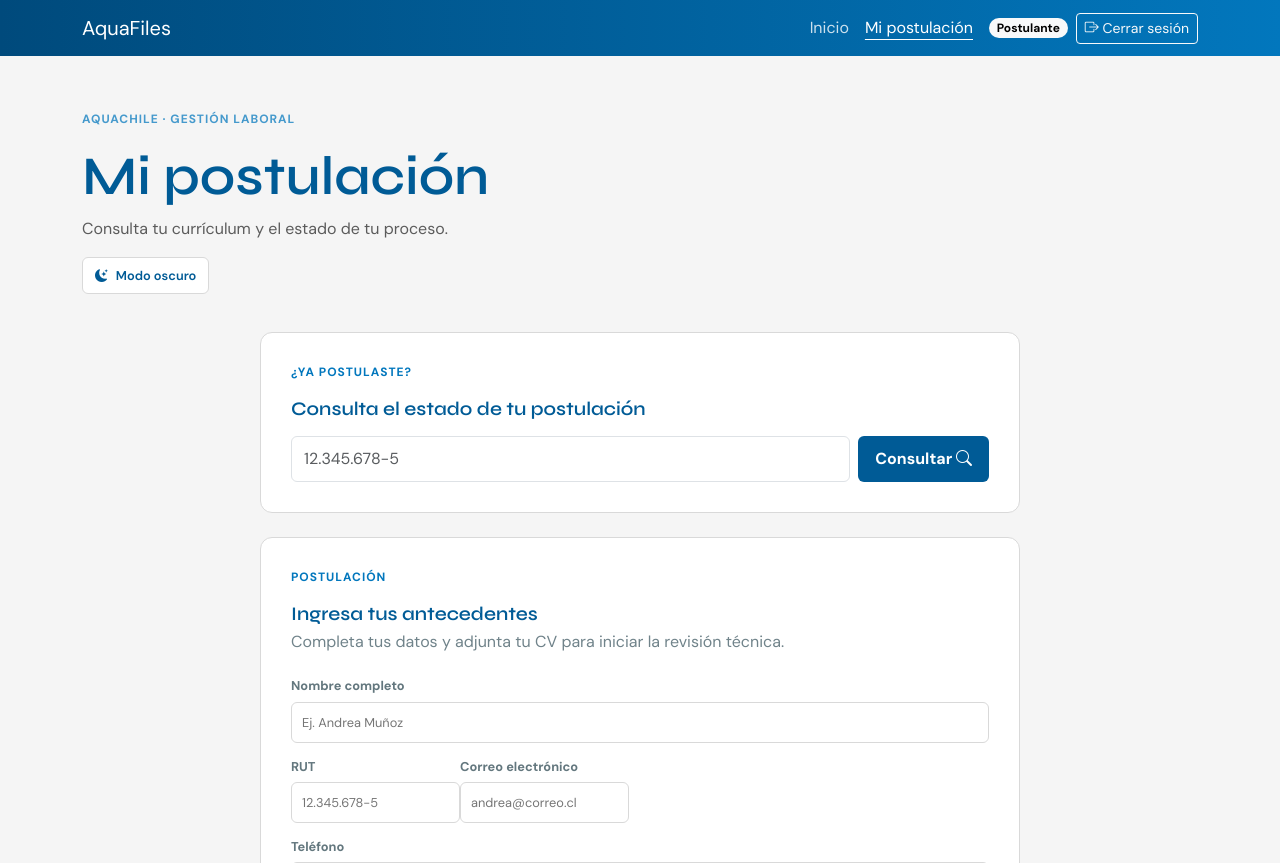
Scenario: Flujo del proceso › el postulante no ve las observaciones técnicas
In the field named "rut de tu postulación": (571, 459) [291,436,850,482], type "15.678.432-K"
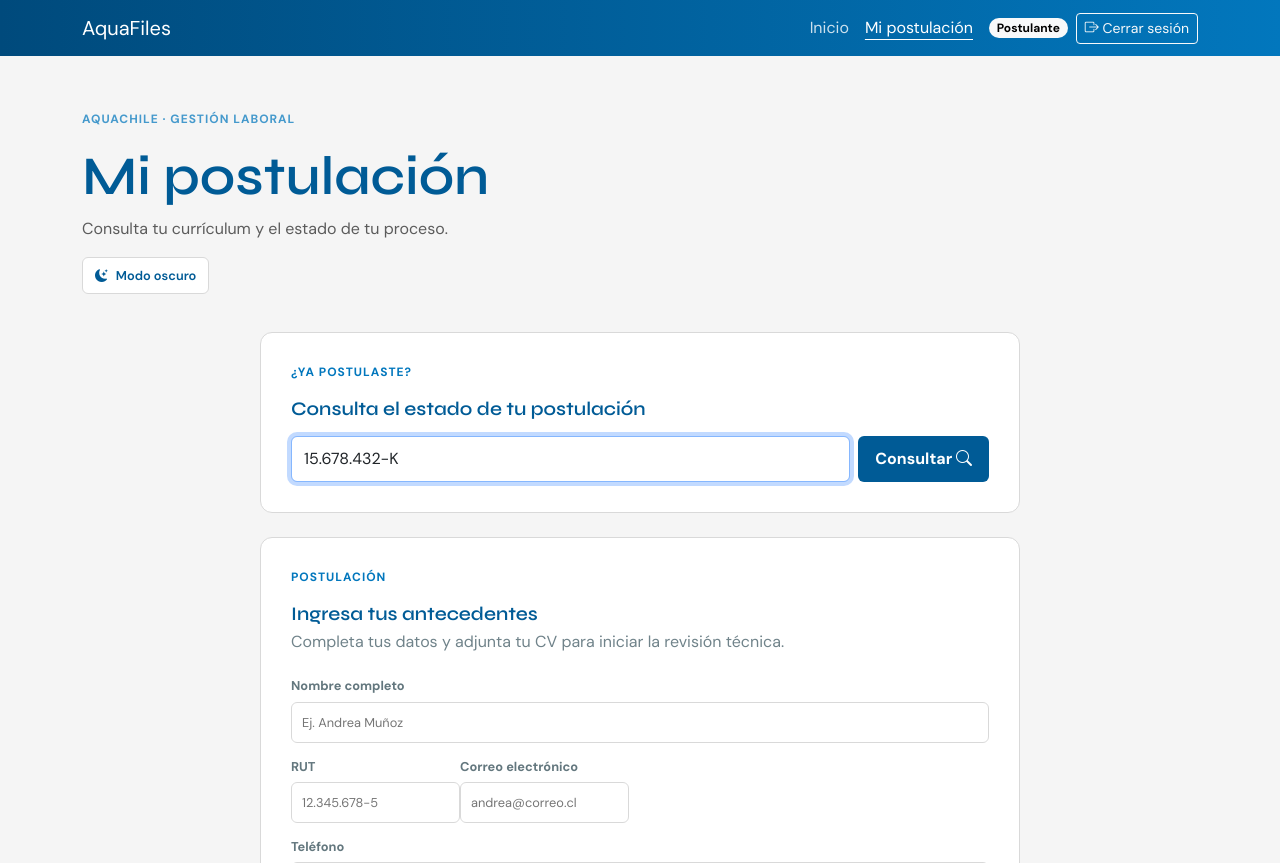
Click the button "Consultar": (924, 459) [858,436,989,482]
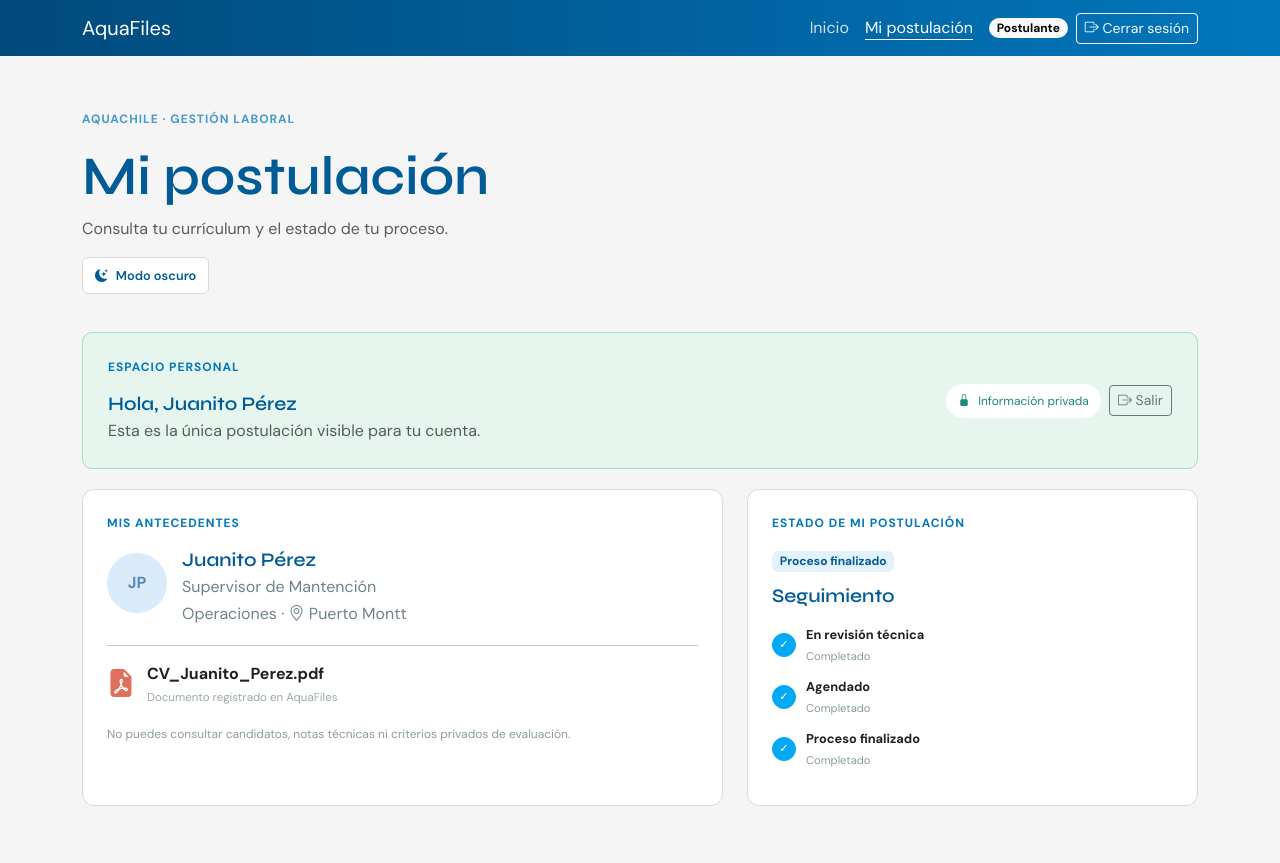
Expected: the 1st text "Proceso finalizado" is shown, [772,551,894,572]
